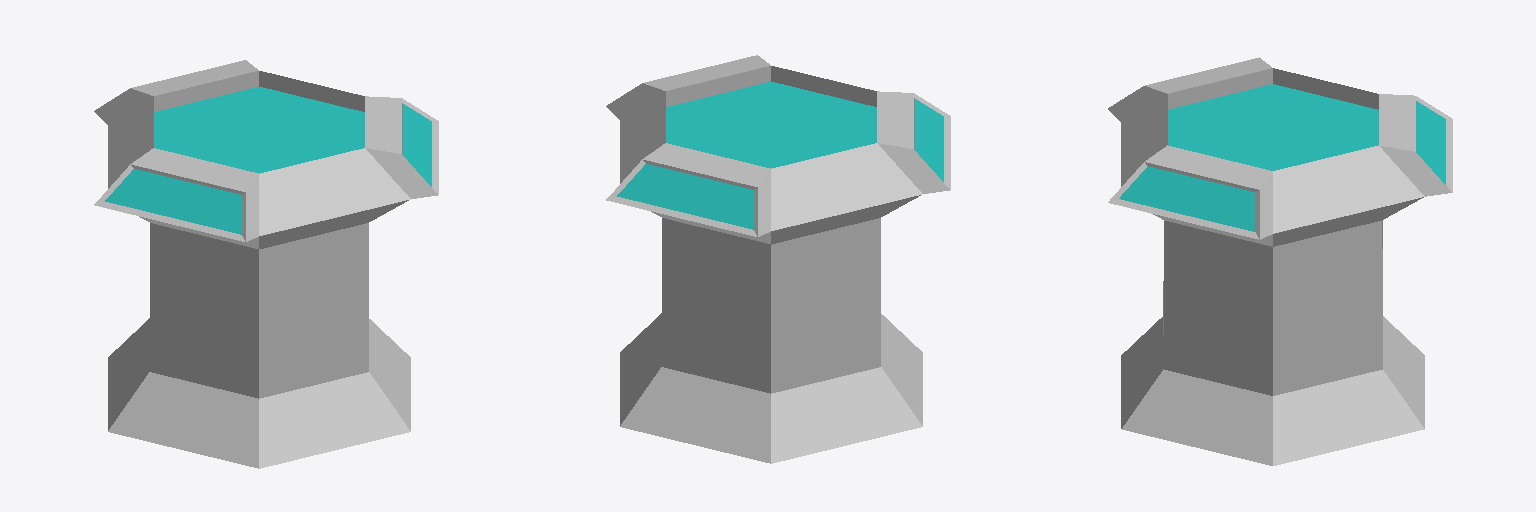
The model's file is battle_informer.obj.
The picture shows the model from 3 angles: view 1: azimuth 30°, elevation 25°; view 2: azimuth 150°, elevation 25°; view 3: azimuth 270°, elevation 25°; orthographic projection.
Parts seen in each view (by area): view 1: Cube.003; view 2: Cube.003; view 3: Cube.003.
Boxes of the visible parts, x1,y1,x2,y2 form: Cube.003: [94, 60, 438, 468]; Cube.003: [606, 55, 950, 463]; Cube.003: [1108, 57, 1452, 465].
Bounding box in the file's own units: 0.4744 × 0.3584 × 0.4108.